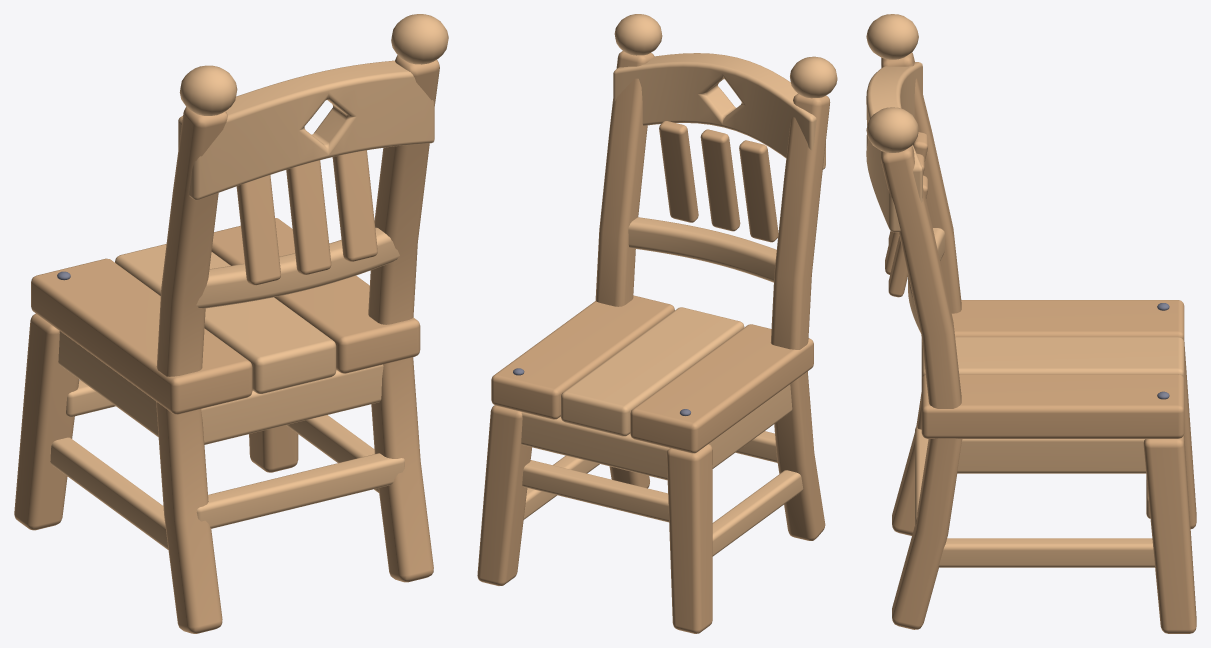
The model's file is chair3.glb.
3 views of the same model, side by side, from view 1: azimuth 30°, elevation 25°; view 2: azimuth 150°, elevation 25°; view 3: azimuth 270°, elevation 25° (orthographic). The views are drawn at different scales.
Visible parts, largest first — view 1: rear-1, toprail, rear1, seat0, seat1, front-1, seat2, str_b, apron_b, midrail, str_s-1, slat1 (+8 smaller); view 2: rear-1, seat0, toprail, seat1, seat2, rear1, front-1, front1, apron_f, midrail, str_f, str_s-1 (+8 smaller); view 3: seat2, rear1, seat1, seat0, front1, apron_s1, str_s1, rear-1, toprail, Sphere, Sphere.001, front-1 (+3 smaller).
Part boxes in pixels (x1,y1,x2,y2): rear-1: (156, 106, 227, 633); toprail: (178, 60, 434, 200); rear1: (368, 55, 439, 582); seat0: (31, 258, 252, 414); seat1: (115, 244, 336, 393); front-1: (14, 313, 79, 530); seat2: (211, 218, 420, 373); str_b: (196, 453, 404, 528); apron_b: (201, 364, 383, 444); midrail: (196, 227, 399, 308); str_s-1: (50, 437, 168, 549); slat1: (286, 160, 331, 274); rear-1: (770, 93, 830, 540); seat0: (630, 324, 813, 453); toprail: (613, 53, 825, 169); seat1: (561, 307, 744, 436); seat2: (491, 295, 674, 419); rear1: (595, 51, 654, 488); front-1: (666, 444, 712, 633); front1: (477, 405, 531, 585); apron_f: (521, 412, 669, 480); midrail: (628, 217, 776, 282); str_f: (522, 460, 668, 522); str_s-1: (712, 470, 803, 556); seat2: (921, 374, 1184, 438); rear1: (881, 146, 962, 629); seat1: (921, 337, 1184, 378); seat0: (921, 300, 1184, 341); front1: (1143, 434, 1196, 633); apron_s1: (957, 439, 1146, 473); str_s1: (938, 538, 1154, 567); rear-1: (881, 52, 961, 535); toprail: (866, 62, 922, 232); Sphere: (866, 14, 918, 59); Sphere.001: (866, 107, 918, 152); front-1: (1184, 342, 1196, 528).
Size of the model in its own units: 0.5366 by 1.08 by 0.6281.
